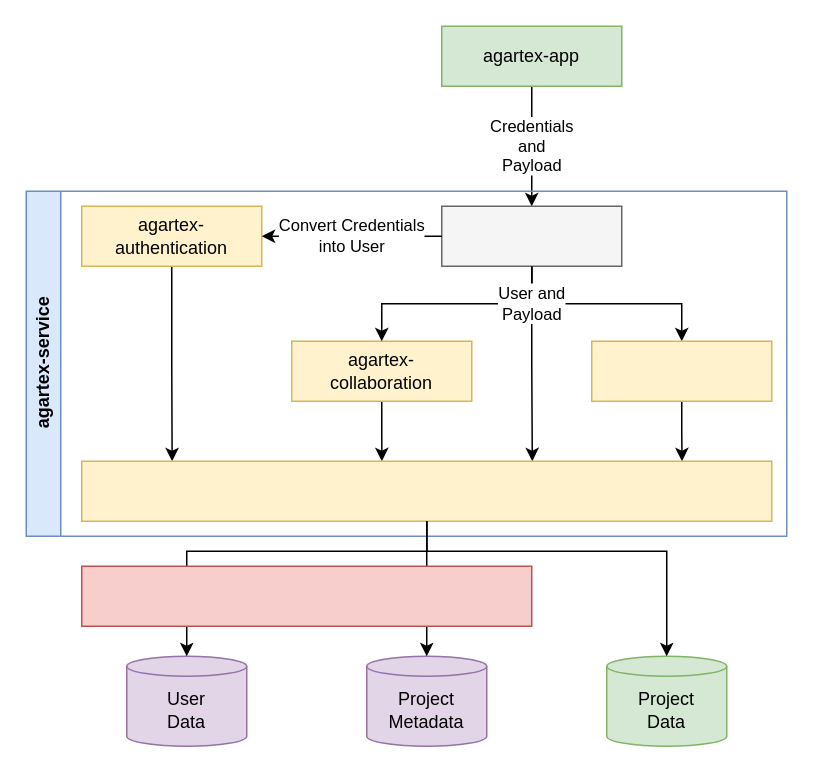
Image size: 813x773. Some labels were removed from this diagram. The shapes that lost their labels are listed below. From the top down, each one's centre as x and y in pixels, then its label:
At point (531, 235): "gateway".
At point (681, 370): "agartex- compilation".
At point (426, 490): "agartex- resource-management".
At point (306, 595): "postgres".
